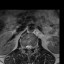CCS_normal: (28, 42, 30, 53)
LFS_normal: (32, 43, 35, 50)
LLS_normal: (30, 43, 32, 50)
RFS_normal: (23, 43, 26, 50)
RLS_normal: (26, 43, 28, 51)
